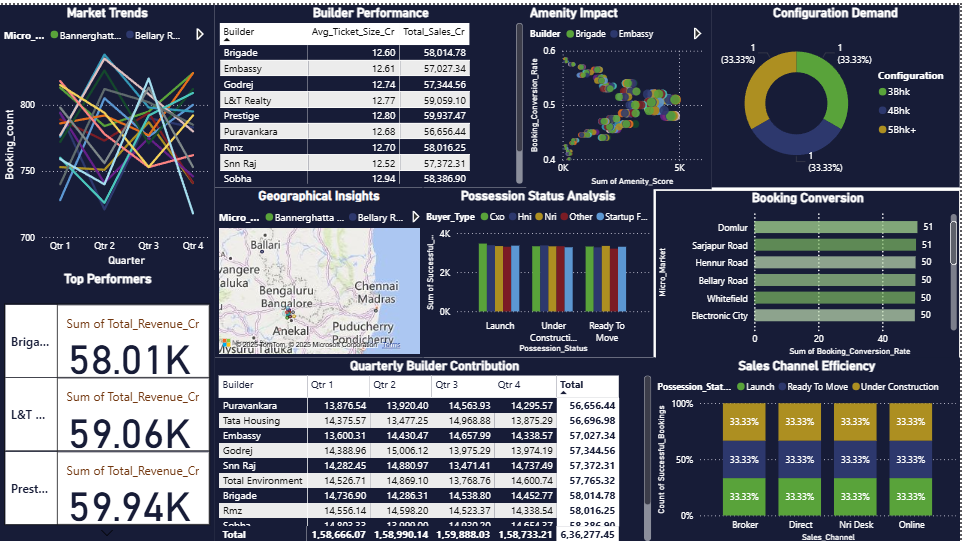

The dashboard page shown, as its layout file describes it:
{"tool":"powerbi","page":{"name":"Page 2","canvas":[1280,720],"ordinal":1},"visuals":[{"type":"lineChart","title":"MARKET TRENDS","fields":{"Y":["Sum(Query1.Booking_Count)"],"Series":["Query1.Micro_Market"],"Category":["Query1.Purchase_Quarter.Variation.Date Hierarchy.Quarter"]},"box":[261,162,264,185],"z":0},{"type":"scatterChart","title":"AMENITY IMPACT","fields":{"Y":["Query3.Booking_Conversion_Rate"],"X":["Sum(Query3.Amenity_Score)"],"Size":["CountNonNull(Query3.Project_Name)"],"Series":["luxhouse_db luxury_housing.Builder"]},"box":[544,163,245,185],"z":1000},{"type":"tableEx","title":"BUILDER PERFORMANCE","fields":{"Values":["Query2.Builder","Query2.Total_Sales_Cr","Query2.Avg_Ticket_Size_Cr"]},"box":[253,348,279,210],"z":2000},{"type":"clusteredBarChart","title":"BOOKING CONVERSION","fields":{"Category":["Query4.Micro_Market"],"Y":["Sum(Query4.Conversion_Rate_Percent)"]},"box":[544,369,245,184],"z":3000},{"type":"pieChart","title":"CONFIGURATION DEMAND","fields":{"Category":["Query5.Booking_Count"],"Y":["CountNonNull(Query5.Configuration)"]},"box":[0,479.8,228.3,203.2],"z":4000},{"type":"map","title":"GEOGRAPHICAL INSIGHTS","fields":{"Series":["Query9.Micro_Market"],"Category":["Query9.Micro_Market"],"Size":["Sum(Query9.Successful_Bookings)"]},"box":[267,584,522,136],"z":5000},{"type":"clusteredColumnChart","title":"POSSESSION STATUS ANALYSIS","fields":{"Category":["Query8.Possession_Status"],"Series":["Query8.Buyer_Type"],"Y":["Sum(Query8.Successful_Bookings)"]},"box":[0,0,158,273],"z":6000},{"type":"columnChart","title":"TOP PERFORMERS","fields":{"Category":["Query10.Builder"],"Y":["Sum(Query10.Total_Revenue_Cr)"],"Series":["Query10.Booking_Count"]},"box":[805.6,566.2,408.3,153.9],"z":7000},{"type":"hundredPercentStackedColumnChart","title":"SALES CHANNEL EFFICIENCY","fields":{"Y":["CountNonNull(Query6.Successful_Bookings)"],"Series":["luxhouse_db luxury_housing.Possession_Status"],"Category":["Query6.Sales_Channel"]},"box":[947,401,220,152],"z":8000},{"type":"pivotTable","title":"QUARTER BUILDER CONTRIBUTION","fields":{"Rows":["Query7.Builder"],"Columns":["Query7.Purchase_Quarter.Variation.Date Hierarchy.Quarter"],"Values":["Sum(Query7.Total_Sales_Cr)"]},"box":[831,195,250,161],"z":9000}]}

Visuals, with their boxes in screenshot pixels (x1, y1, x2, y2), scaled from the page's 1280x720 canvas onto the 965x541 screenshot:
"MARKET TRENDS" lineChart: <box>197,122,396,261</box>
"AMENITY IMPACT" scatterChart: <box>410,122,595,261</box>
"BUILDER PERFORMANCE" tableEx: <box>191,261,401,419</box>
"BOOKING CONVERSION" clusteredBarChart: <box>410,277,595,416</box>
"CONFIGURATION DEMAND" pieChart: <box>0,361,172,513</box>
"GEOGRAPHICAL INSIGHTS" map: <box>201,439,595,540</box>
"POSSESSION STATUS ANALYSIS" clusteredColumnChart: <box>0,0,119,205</box>
"TOP PERFORMERS" columnChart: <box>607,425,915,540</box>
"SALES CHANNEL EFFICIENCY" hundredPercentStackedColumnChart: <box>714,301,880,416</box>
"QUARTER BUILDER CONTRIBUTION" pivotTable: <box>626,147,815,267</box>
